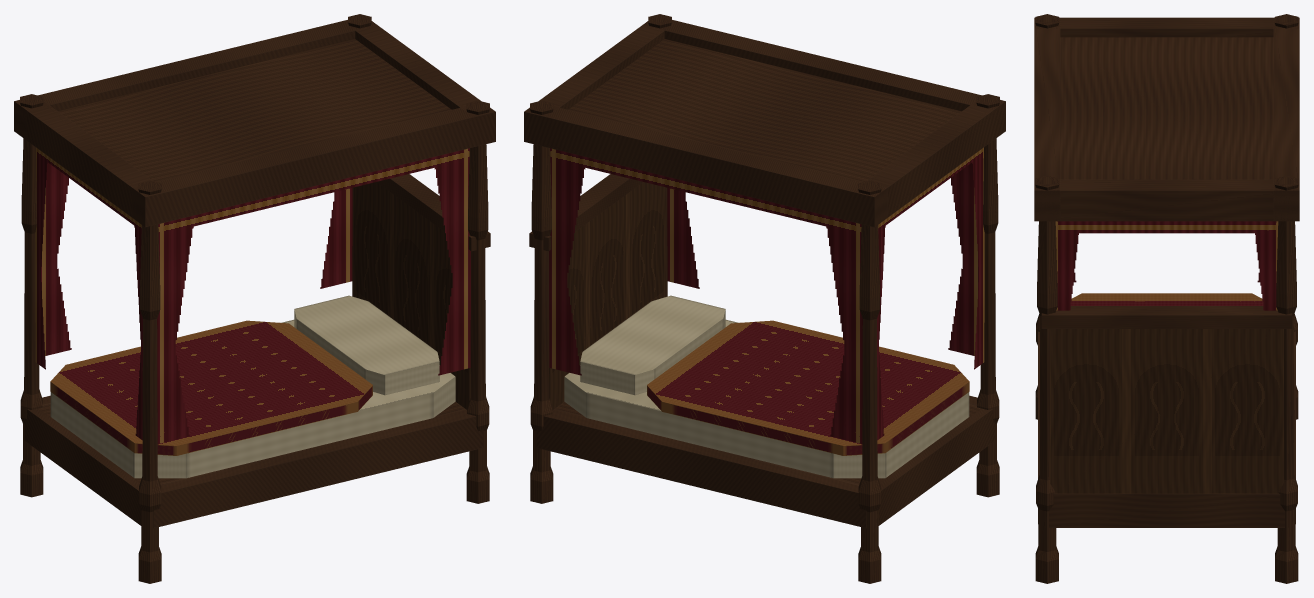
Rendered from bed-before-imagegen.glb.
3 renders of one model, left to right at view 1: azimuth 30°, elevation 25°; view 2: azimuth 150°, elevation 25°; view 3: azimuth 270°, elevation 25°, orthographic.
Visible parts, largest first — view 1: Continuous shaped oak post; view 2: Continuous shaped oak post; view 3: Continuous shaped oak post.
Part boxes in pixels (x1,y1,x2,y2): Continuous shaped oak post: [14, 14, 495, 583]; Continuous shaped oak post: [524, 14, 1005, 583]; Continuous shaped oak post: [1034, 14, 1299, 583].
Bounding box in the file's own units: 2.2 × 2.34 × 1.42.
2 materials, 2 textured.
